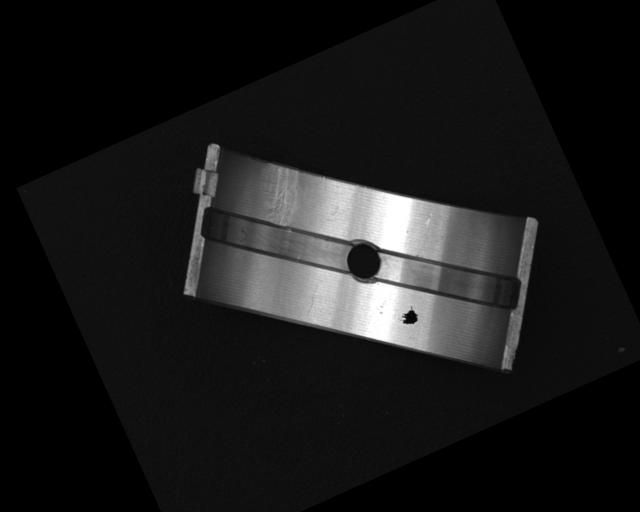blot: (393, 302, 421, 329)
gap: (197, 164, 360, 319), (373, 210, 528, 353)
hole: (340, 236, 388, 285)
nick: (403, 211, 447, 258), (298, 282, 327, 316)
scratch: (248, 156, 315, 231)
